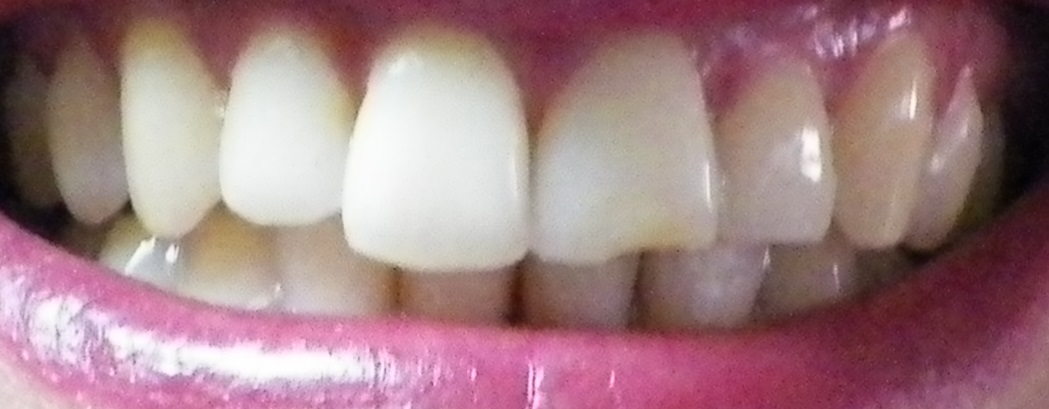boca: (11, 19, 1012, 333)
